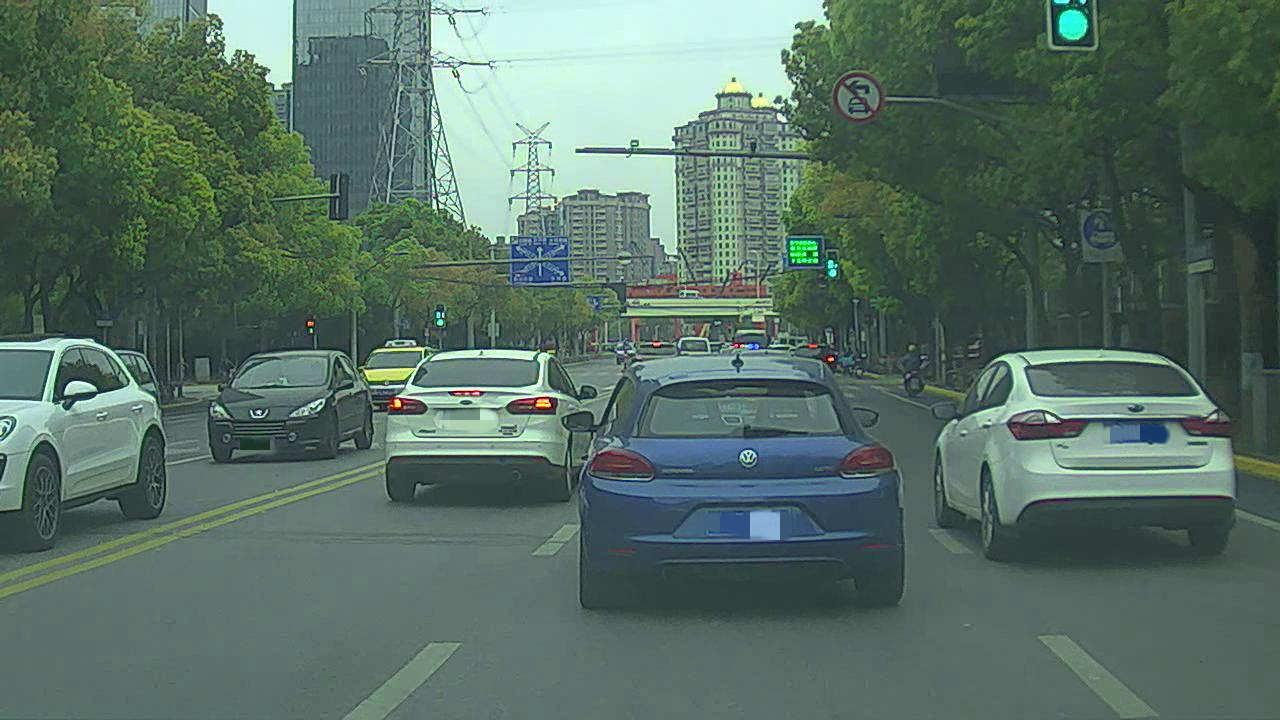traffic_light: (825, 247, 839, 280)
